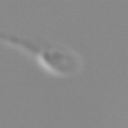normal: (1, 35, 42, 60)
